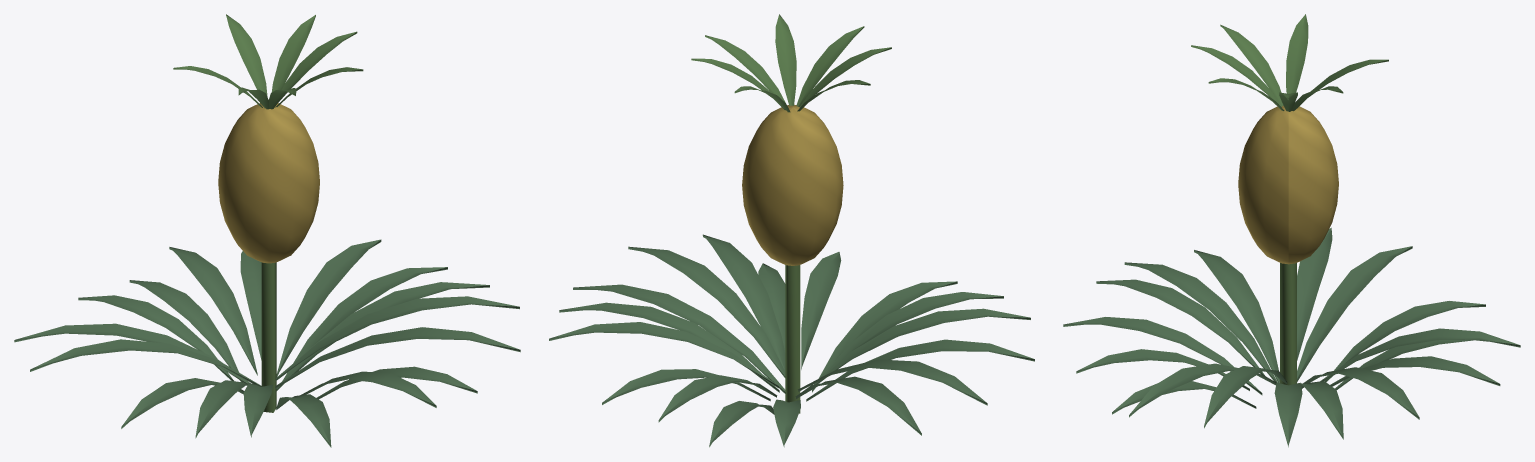
The model's file is pina.glb.
3 views of the same model, side by side, from view 1: azimuth 30°, elevation 25°; view 2: azimuth 150°, elevation 25°; view 3: azimuth 270°, elevation 25° (orthographic).
Visible parts, largest first — view 1: pina; view 2: pina; view 3: pina.
Part boxes in pixels (<box>): pina: <box>14,14,520,447</box>; pina: <box>549,14,1034,447</box>; pina: <box>1063,14,1520,447</box>.
Bounding box in the file's own units: 1.29 × 1 × 1.18.
